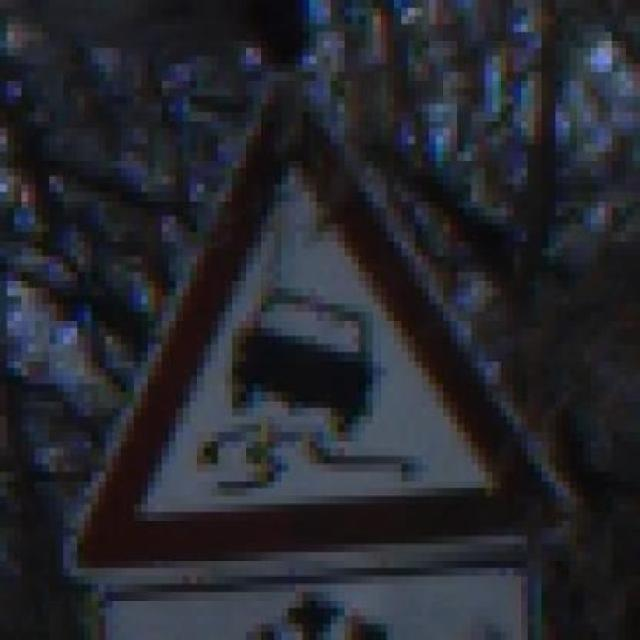Slippery Road Ahead: (49, 64, 591, 584)
